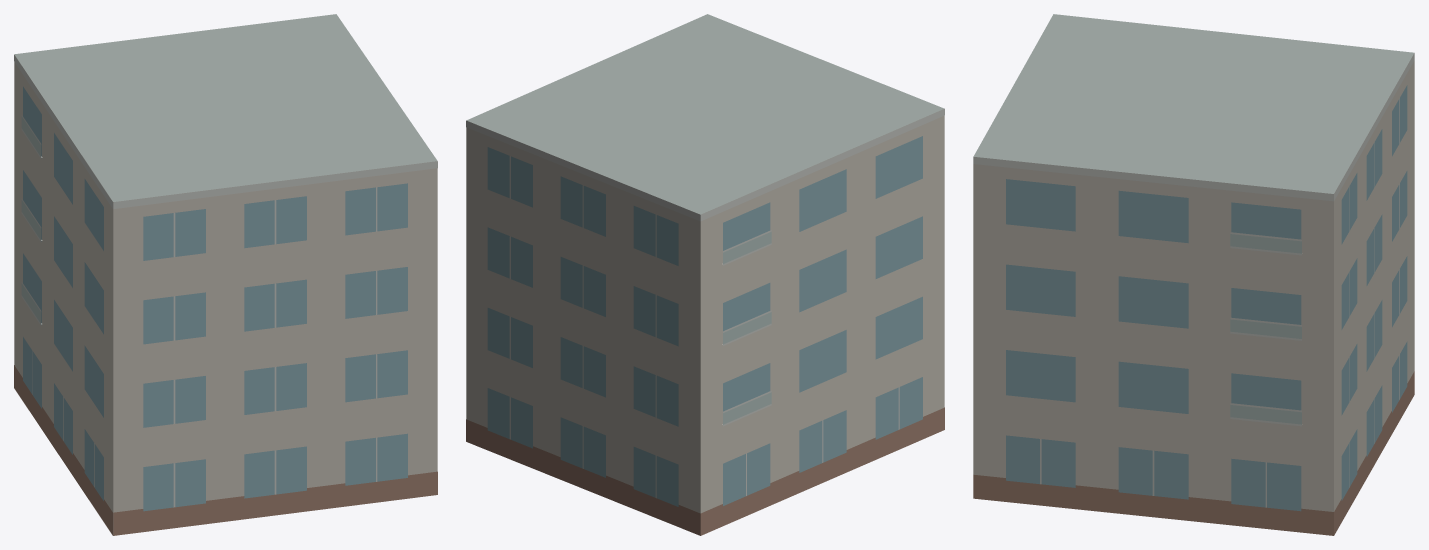
The model's file is survey-upis-32872321.glb.
3 views of the same model, side by side, from view 1: azimuth 30°, elevation 25°; view 2: azimuth 150°, elevation 25°; view 3: azimuth 270°, elevation 25° (orthographic). The views are drawn at different scales.
Parts seen in each view (by area): view 1: survey-upis-32872321.tmp; view 2: survey-upis-32872321.tmp; view 3: survey-upis-32872321.tmp.
Boxes of the visible parts, x1=… form: survey-upis-32872321.tmp: x1=14, y1=14, x2=437, y2=535; survey-upis-32872321.tmp: x1=466, y1=14, x2=944, y2=535; survey-upis-32872321.tmp: x1=973, y1=14, x2=1414, y2=535.
Size of the model in its own units: 13 by 11.5 by 13.47.
